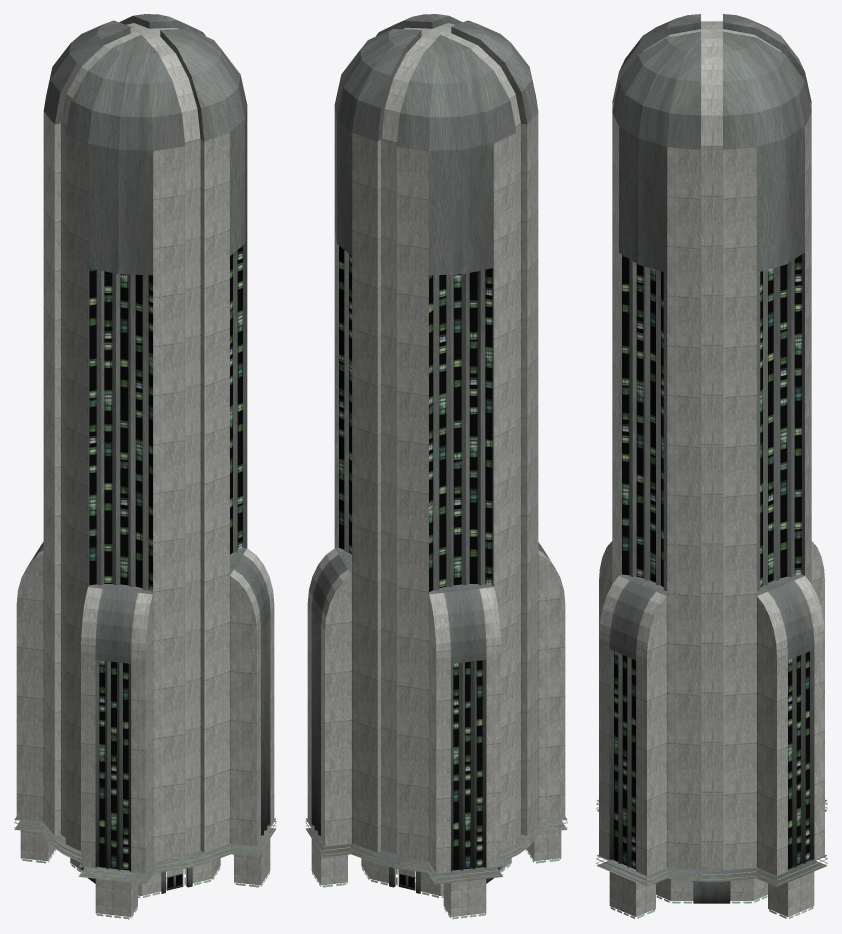
Rendered from thm_corl_skyskraper_s05_l0.fbx.
3 renders of one model, left to right at view 1: azimuth 30°, elevation 25°; view 2: azimuth 150°, elevation 25°; view 3: azimuth 270°, elevation 25°, orthographic.
Parts seen in each view (by area): view 1: mesh_node; view 2: mesh_node; view 3: mesh_node.
Part boxes in pixels (x1,y1,x2,y2): mesh_node: [14, 14, 276, 919]; mesh_node: [305, 14, 567, 919]; mesh_node: [596, 14, 827, 918].
Bounding box in the file's own units: 37.51 × 152 × 37.51.
